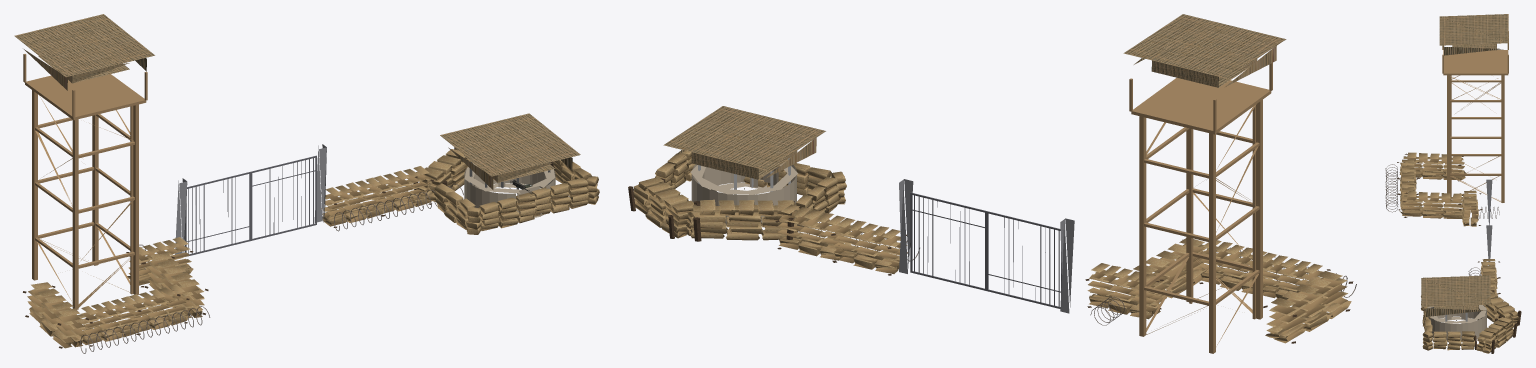
File: gate_entrance.glb
The picture shows the model from 3 angles, left to right: view 1: azimuth 30°, elevation 25°; view 2: azimuth 150°, elevation 25°; view 3: azimuth 270°, elevation 25°; orthographic projection. The views are drawn at different scales.
Parts seen in each view (by area): view 1: watchtower_1.001-col, mg_nest_1-col, mg_nest_1.009-col, mg_nest_1.003-col, sandbag_heavy.005-col, mg_nest_1.004-col, sandbag_heavy.007-col, sandbag_heavy.002-col, sandbag_heavy.003-col, sandbag_heavy.004-col, sandbag_heavy.006-col, mg_nest_1.002-col (+6 smaller); view 2: watchtower_1.001-col, mg_nest_1-col, mg_nest_1.009-col, mg_nest_1.006-col, sandbag_heavy.005-col, mg_nest_1.002-col, sandbag_heavy.007-col, mg_nest_1.005-col, sandbag_heavy-col, sandbag_heavy.006-col, mg_nest_1.003-col, sandbag_heavy.004-col (+7 smaller); view 3: watchtower_1.001-col, mg_nest_1.009-col, mg_nest_1-col, sandbag_heavy.004-col, sandbag_heavy.005-col, mg_nest_1.002-col, mg_nest_1.004-col, mg_nest_1.005-col, mg_nest_1.006-col, sandbag_heavy-col, sandbag_heavy.003-col, sandbag_heavy.002-col (+7 smaller).
Part boxes in pixels (<box>): watchtower_1.001-col: <box>23,54,147,309</box>; mg_nest_1-col: <box>440,113,580,189</box>; mg_nest_1.009-col: <box>14,14,154,90</box>; mg_nest_1.003-col: <box>434,183,536,234</box>; sandbag_heavy.005-col: <box>23,282,88,348</box>; mg_nest_1.004-col: <box>531,160,599,216</box>; sandbag_heavy.007-col: <box>321,177,385,227</box>; sandbag_heavy.002-col: <box>77,296,141,346</box>; sandbag_heavy.003-col: <box>122,284,189,334</box>; sandbag_heavy.004-col: <box>143,253,208,317</box>; sandbag_heavy.006-col: <box>366,166,433,216</box>; mg_nest_1.002-col: <box>464,163,555,218</box>; watchtower_1.001-col: <box>1129,63,1272,353</box>; mg_nest_1-col: <box>663,106,825,179</box>; mg_nest_1.009-col: <box>1123,14,1286,87</box>; mg_nest_1.006-col: <box>690,199,797,241</box>; sandbag_heavy.005-col: <box>1263,271,1353,343</box>; mg_nest_1.002-col: <box>690,162,797,225</box>; sandbag_heavy.007-col: <box>831,218,907,275</box>; mg_nest_1.005-col: <box>628,177,696,238</box>; sandbag_heavy-col: <box>1085,263,1163,319</box>; sandbag_heavy.006-col: <box>775,204,853,261</box>; mg_nest_1.003-col: <box>766,163,846,226</box>; sandbag_heavy.004-col: <box>1130,238,1208,305</box>; watchtower_1.001-col: <box>1442,31,1508,202</box>; mg_nest_1.009-col: <box>1439,14,1508,55</box>; mg_nest_1-col: <box>1421,275,1490,316</box>; sandbag_heavy.004-col: <box>1399,191,1463,218</box>; sandbag_heavy.005-col: <box>1399,152,1466,181</box>; mg_nest_1.002-col: <box>1427,305,1486,342</box>; mg_nest_1.004-col: <box>1422,314,1474,350</box>; mg_nest_1.005-col: <box>1473,317,1517,353</box>; mg_nest_1.006-col: <box>1483,290,1521,327</box>; sandbag_heavy-col: <box>1459,190,1482,226</box>; sandbag_heavy.003-col: <box>1397,175,1418,210</box>; sandbag_heavy.002-col: <box>1397,159,1419,194</box>.
Size of the model in its own units: 21.36 by 9.1 by 6.69.
Materials: 27 (15 with a texture image).
